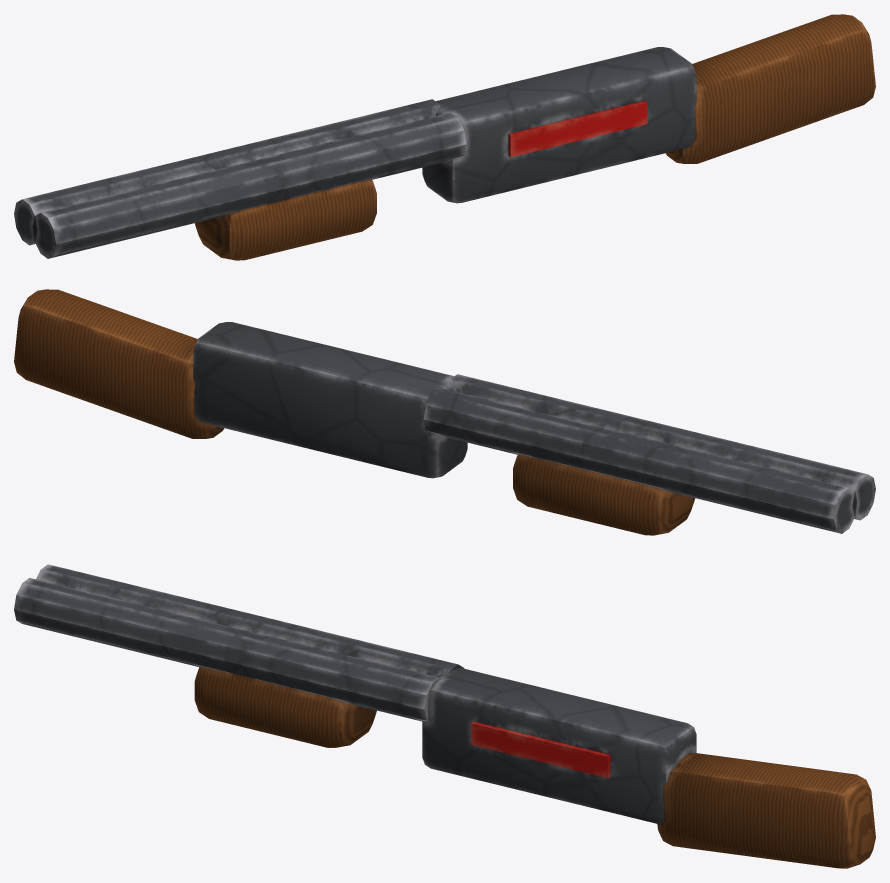
Rendered from pk_shotgun.glb.
3 renders of one model, top to bottom at view 1: azimuth 30°, elevation 25°; view 2: azimuth 150°, elevation 25°; view 3: azimuth 330°, elevation 25°, orthographic.
Parts seen in each view (by area): view 1: pk_shotgun; view 2: pk_shotgun; view 3: pk_shotgun.
Part boxes in pixels (box(x1,y1,x2,y2)): pk_shotgun: box(14, 14, 875, 260); pk_shotgun: box(14, 289, 875, 535); pk_shotgun: box(14, 564, 875, 868).
Size of the model in its own units: 1.14 by 0.1446 by 0.1.
1 material, 1 textured.
